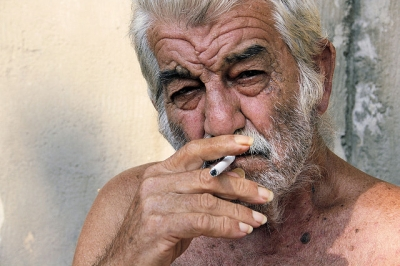cigarette: (210, 149, 236, 183)
